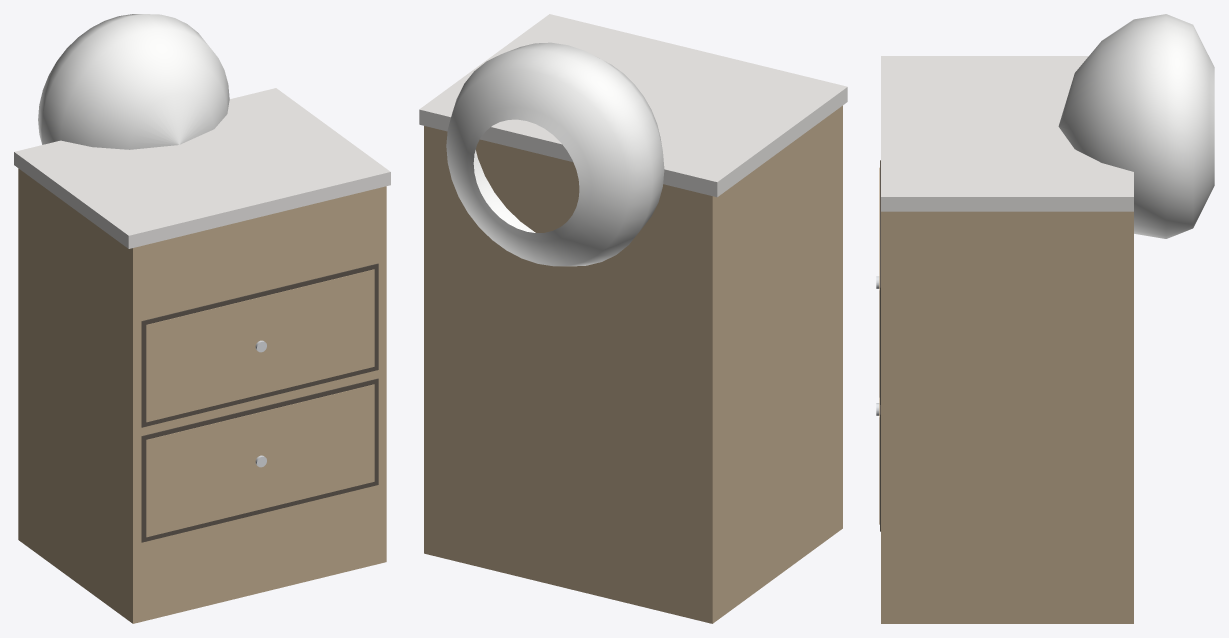
The model's file is vanity-unit.glb.
3 views of the same model, side by side, from view 1: azimuth 30°, elevation 25°; view 2: azimuth 150°, elevation 25°; view 3: azimuth 270°, elevation 25° (orthographic). The views are drawn at different scales.
Parts seen in each view (by area): view 1: vanity_body; view 2: vanity_body; view 3: vanity_body.
Part boxes in pixels (left/top/right/bottom): vanity_body: left=14, top=14, right=390, bottom=623; vanity_body: left=419, top=14, right=847, bottom=623; vanity_body: left=876, top=14, right=1214, bottom=623.
Size of the model in its own units: 0.62 by 1.09 by 0.629.
